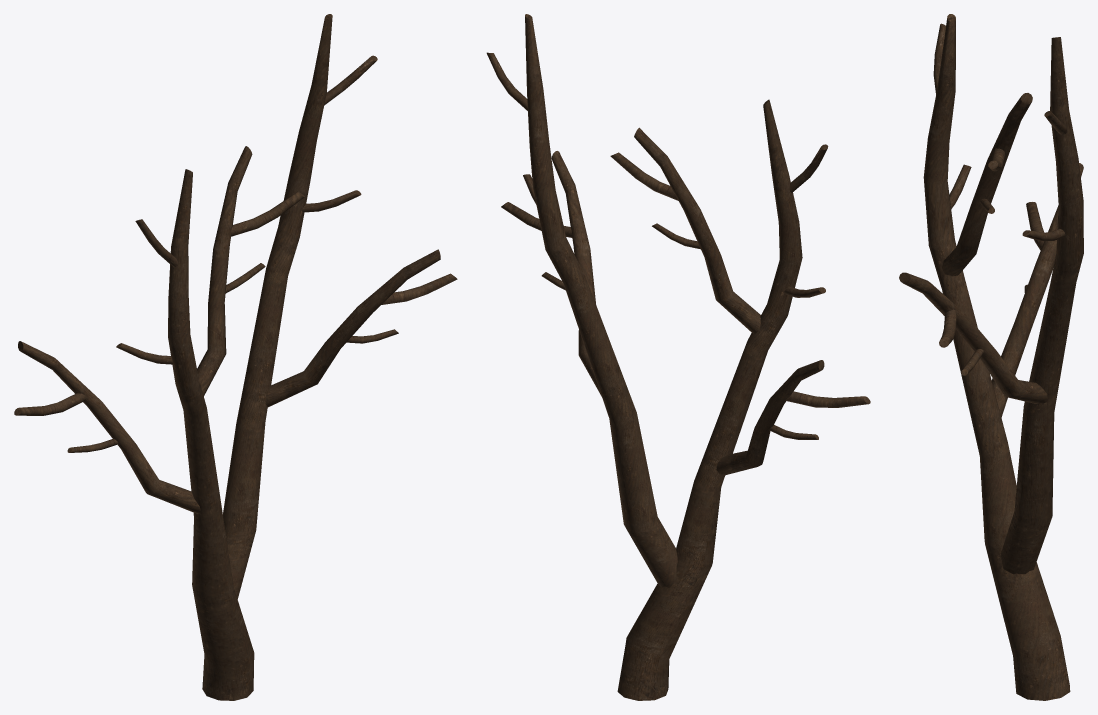
The picture shows the model from 3 angles, left to right: view 1: azimuth 30°, elevation 25°; view 2: azimuth 150°, elevation 25°; view 3: azimuth 270°, elevation 25°; orthographic projection. The views are drawn at different scales.
Visible parts, largest first — view 1: DeadBirch_8; view 2: DeadBirch_8; view 3: DeadBirch_8.
Boxes of the visible parts, x1,y1,x2,y2 form: DeadBirch_8: (14, 14, 457, 700); DeadBirch_8: (486, 14, 870, 700); DeadBirch_8: (899, 14, 1083, 700).
Size of the model in its own units: 6.38 by 9.77 by 2.3.
Materials: 1 (1 with a texture image).
